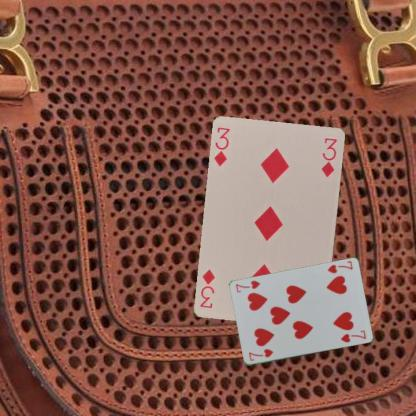3d: (212, 125, 232, 168)
7h: (324, 259, 354, 274), (246, 346, 274, 362)
